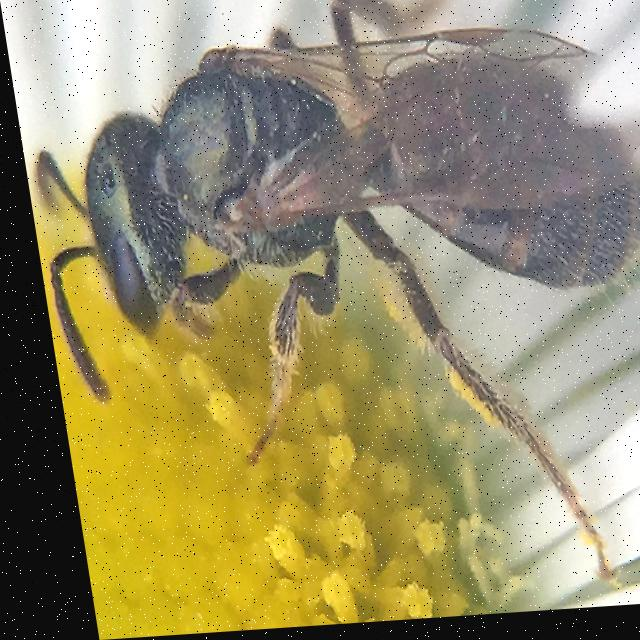Lasioglossum: (4, 0, 640, 630)
